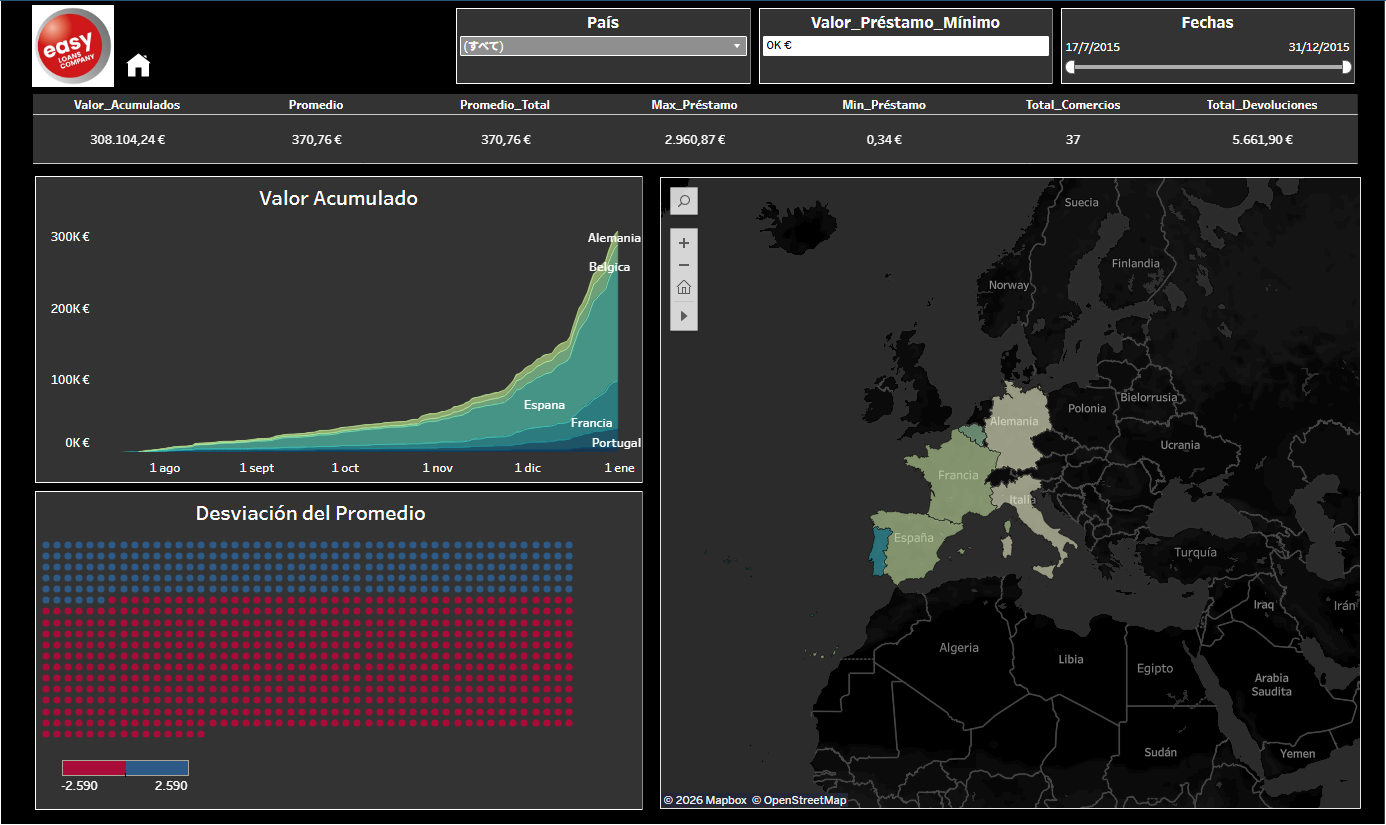

This screenshot's page, from the dashboard's own definition file:
{"tool":"tableau","page":{"name":"Rendimmiento Financiero","canvas":[1400,850],"ordinal":2},"visuals":[{"type":"filter","title":"Promedio_Países ","param":"[federated.1l9kr5e1pzxyfi1f3q6ui1598jv5].[none:COUNTRY:nk]","box":[459,22,303,84]},{"type":"parameter","param":"[Parameters].[パラメーター 1]","box":[762,22,302,84]},{"type":"filter","title":"Promedio_Países ","param":"[federated.1l9kr5e1pzxyfi1f3q6ui1598jv5].[none:CREATED_AT:qk]","box":[1064,22,302,84]},{"type":"image","param":"Image/Easy_Loans_Logo.JPG","box":[39,23,85,82]},{"type":"dashboard-object","box":[133,63,25,41]},{"type":"worksheet","title":"Rendimiento_Préstamos (Tabla KPI)","mark":"Text","box":[36,108,1333,78]},{"type":"worksheet","title":"Operaciones_Acumuladas","mark":"Area","rows":["Calculation_2156448154210308"],"cols":["CREATED_AT"],"box":[38,190,616,315]},{"type":"worksheet","title":"Promedio_Países ","mark":"Multipolygon","box":[662,190,711,642]},{"type":"worksheet","title":"Desviación_del_Promedio","mark":"Circle","box":[38,505,616,327]},{"type":"legend","title":"Desviación_del_Promedio","param":"[federated.1l9kr5e1pzxyfi1f3q6ui1598jv5].[usr:Calculation_0594866948059136:qk]","box":[65,774,135,46]}]}

Visuals, with their boxes in screenshot pixels (x1, y1, x2, y2), scaled from the page's 1400x850 canvas onto the 1386x825 screenshot:
"Promedio_Países " filter: <region>454, 21, 754, 103</region>
parameter: <region>754, 21, 1053, 103</region>
"Promedio_Países " filter: <region>1053, 21, 1352, 103</region>
image: <region>39, 22, 123, 102</region>
dashboard-object: <region>132, 61, 156, 101</region>
"Rendimiento_Préstamos (Tabla KPI)" worksheet (Text marks): <region>36, 105, 1355, 181</region>
"Operaciones_Acumuladas" worksheet (Area marks): <region>38, 184, 647, 490</region>
"Promedio_Países " worksheet (Multipolygon marks): <region>655, 184, 1359, 808</region>
"Desviación_del_Promedio" worksheet (Circle marks): <region>38, 490, 647, 808</region>
"Desviación_del_Promedio" legend: <region>64, 751, 198, 796</region>
